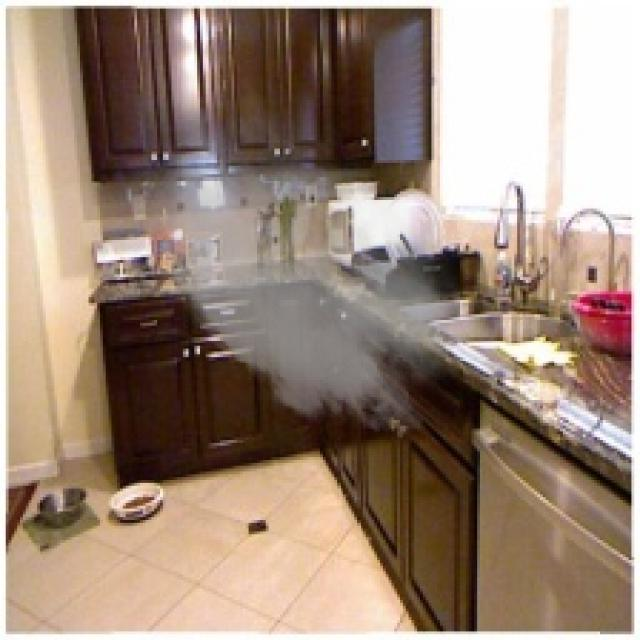smoke: (117, 77, 483, 446)
